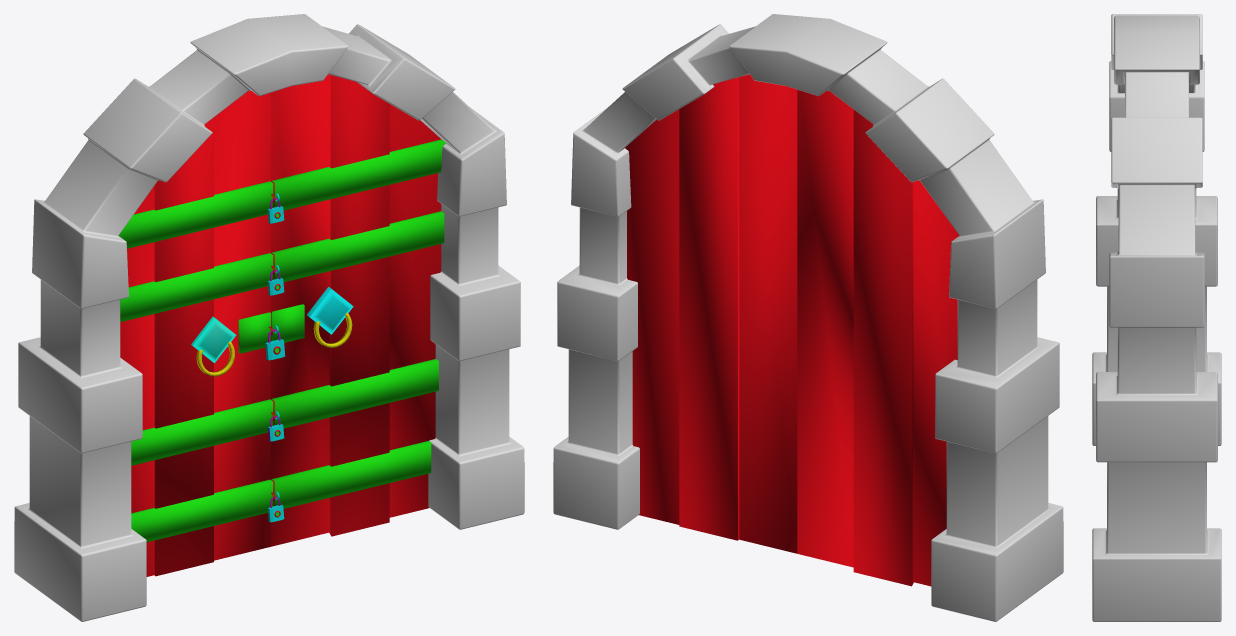
File: door.fbx
The picture shows the model from 3 angles, left to right: view 1: azimuth 30°, elevation 25°; view 2: azimuth 150°, elevation 25°; view 3: azimuth 270°, elevation 25°; orthographic projection. The views are drawn at different scales.
Parts seen in each view (by area): view 1: obwód, drzwi_prawe, drzwi_lewe; view 2: obwód, drzwi_prawe, drzwi_lewe; view 3: obwód.
Part boxes in pixels (x1=…): obwód: x1=14, y1=14, x2=524, y2=621; drzwi_prawe: x1=271, y1=74, x2=445, y2=546; drzwi_lewe: x1=118, y1=90, x2=275, y2=576; obwód: x1=553, y1=14, x2=1063, y2=621; drzwi_prawe: x1=625, y1=74, x2=797, y2=553; drzwi_lewe: x1=797, y1=89, x2=959, y2=586; obwód: x1=1092, y1=14, x2=1221, y2=621.
Bounding box in the file's own units: 239 × 264 × 63.36.
